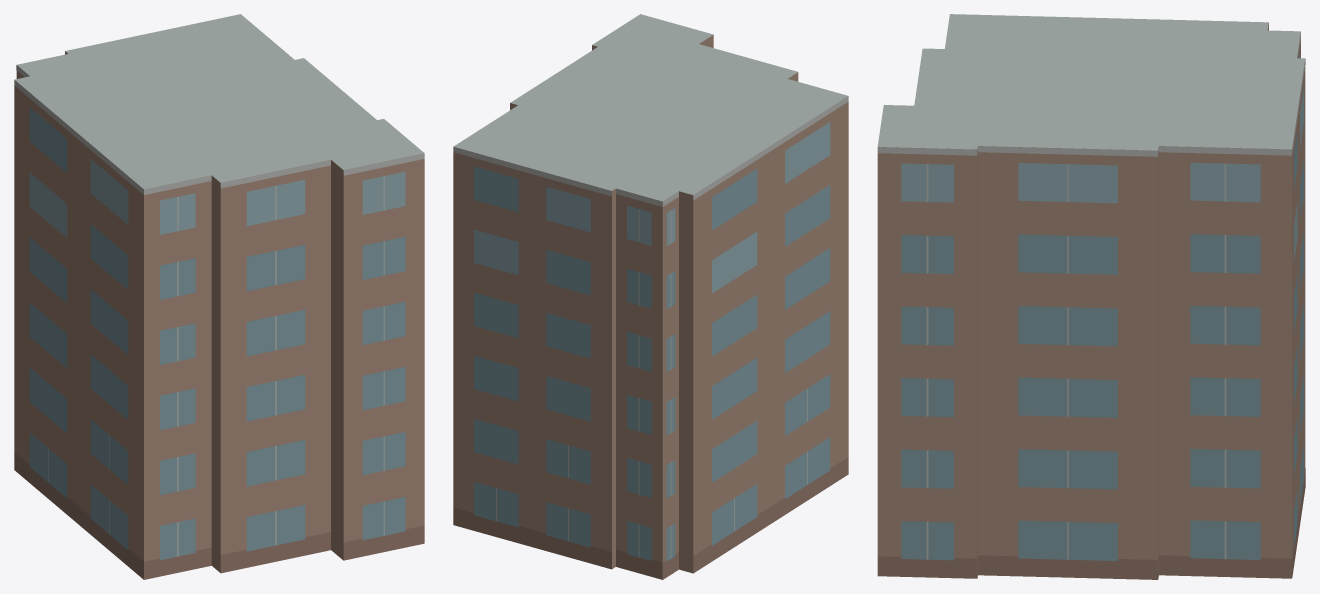
File: survey-upis-32666755.glb
The picture shows the model from 3 angles, left to right: view 1: azimuth 30°, elevation 25°; view 2: azimuth 150°, elevation 25°; view 3: azimuth 270°, elevation 25°; orthographic projection. The views are drawn at different scales.
Visible parts, largest first — view 1: survey-upis-32666755.tmp; view 2: survey-upis-32666755.tmp; view 3: survey-upis-32666755.tmp.
Part boxes in pixels (bbox=[...]): survey-upis-32666755.tmp: bbox=[14, 14, 424, 579]; survey-upis-32666755.tmp: bbox=[453, 14, 848, 579]; survey-upis-32666755.tmp: bbox=[877, 14, 1305, 579].
Size of the model in its own units: 11.48 by 16.8 by 15.19.
